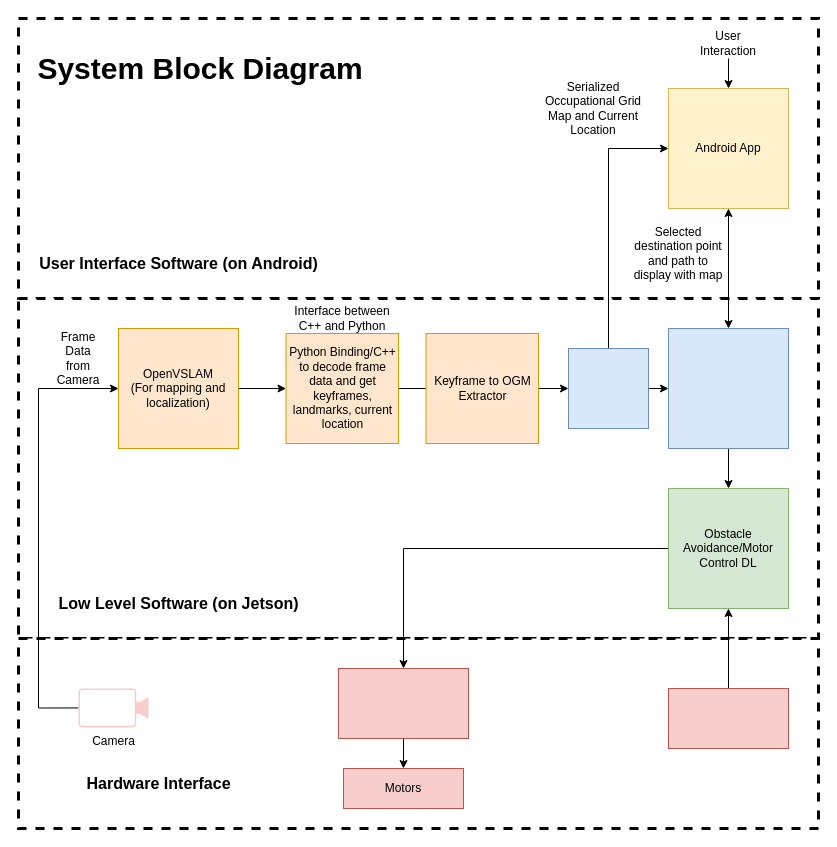
Image size: 837x847. Some labels were removed from this diagram. The shapes that lost their labels are listed below. From the top down, each one's centre as x and y in pixels, then its label:
At point 608,388: "Occupancy Grid Map (OGM)".
At point 728,388: "A* Navigation Algorithm".
At point 403,703: "Motor Controller Board".
At point 728,718: "LiDAR".
